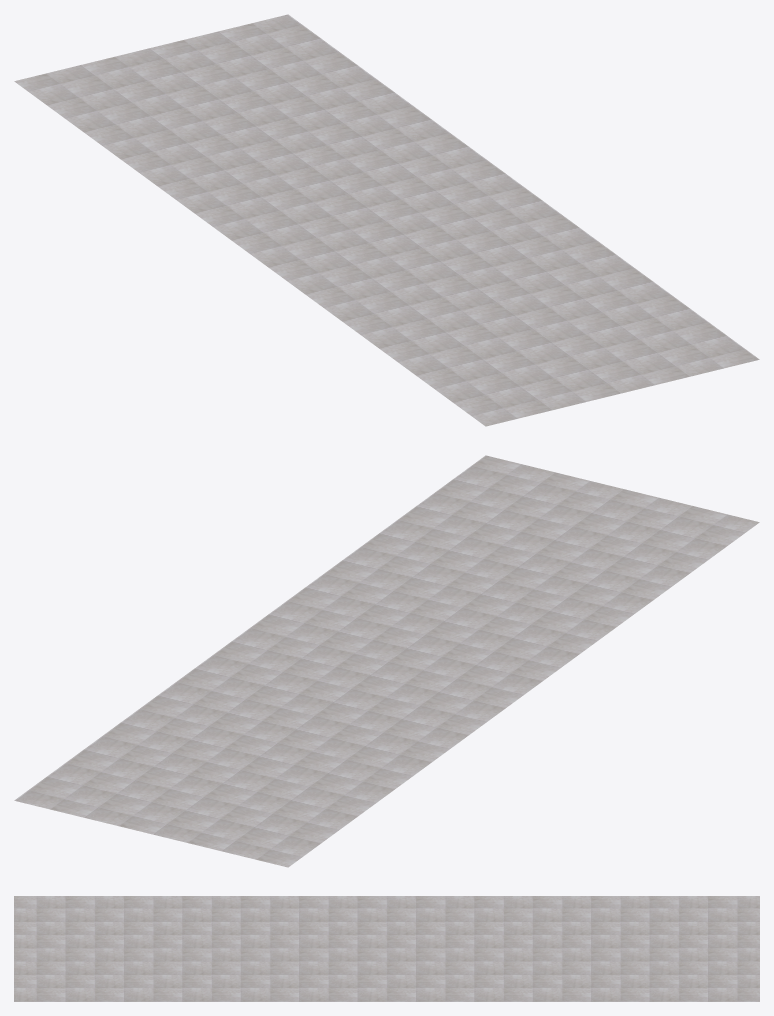
File: tilefloor.fbx
3 views of the same model, one above another, from view 1: azimuth 30°, elevation 25°; view 2: azimuth 150°, elevation 25°; view 3: azimuth 270°, elevation 25° (orthographic). The views are drawn at different scales.
Parts seen in each view (by area): view 1: pPlane3; view 2: pPlane3; view 3: pPlane3.
Boxes of the visible parts, x1=… form: pPlane3: x1=14, y1=14, x2=759, y2=426; pPlane3: x1=14, y1=455, x2=759, y2=867; pPlane3: x1=14, y1=896, x2=759, y2=1001.
Size of the model in its own units: 368 by 0 by 1097.
1 material, 1 textured.
